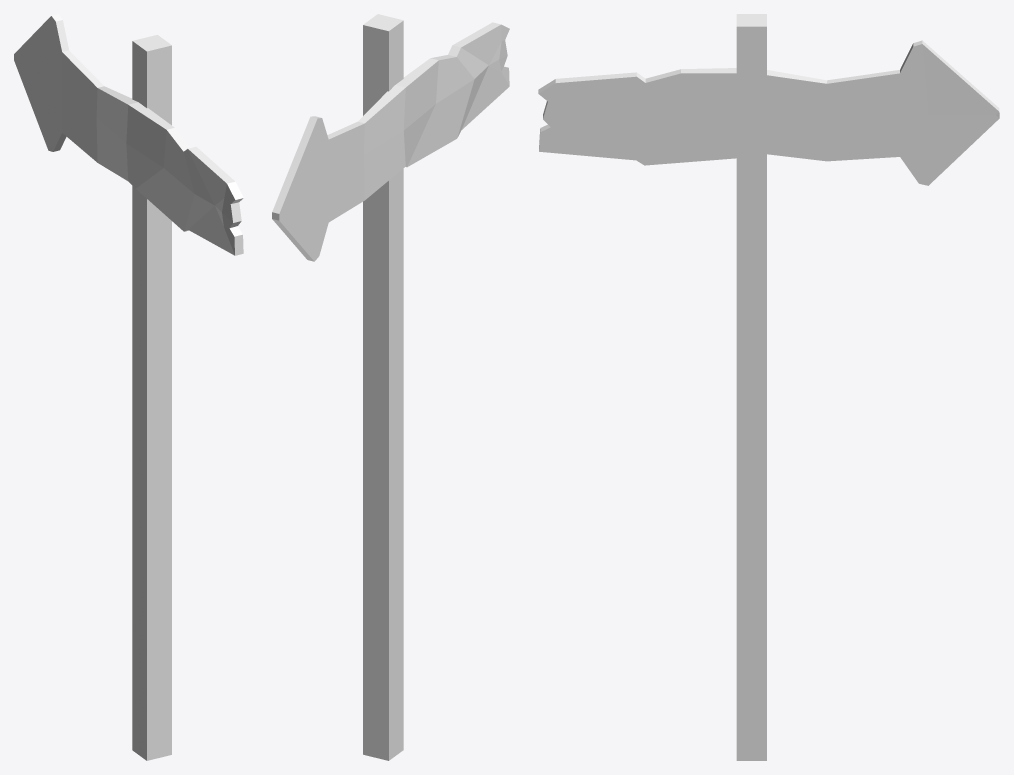
File: señal5.fbx
The picture shows the model from 3 angles, left to right: view 1: azimuth 30°, elevation 25°; view 2: azimuth 150°, elevation 25°; view 3: azimuth 270°, elevation 25°; orthographic projection. The views are drawn at different scales.
Parts seen in each view (by area): view 1: señal5; view 2: señal5; view 3: señal5.
Boxes of the visible parts, left/top/right/bottom form: señal5: left=14, top=14, right=243, bottom=760; señal5: left=272, top=14, right=509, bottom=760; señal5: left=538, top=14, right=999, bottom=760.
Size of the model in its own units: 36.49 by 690 by 393.
